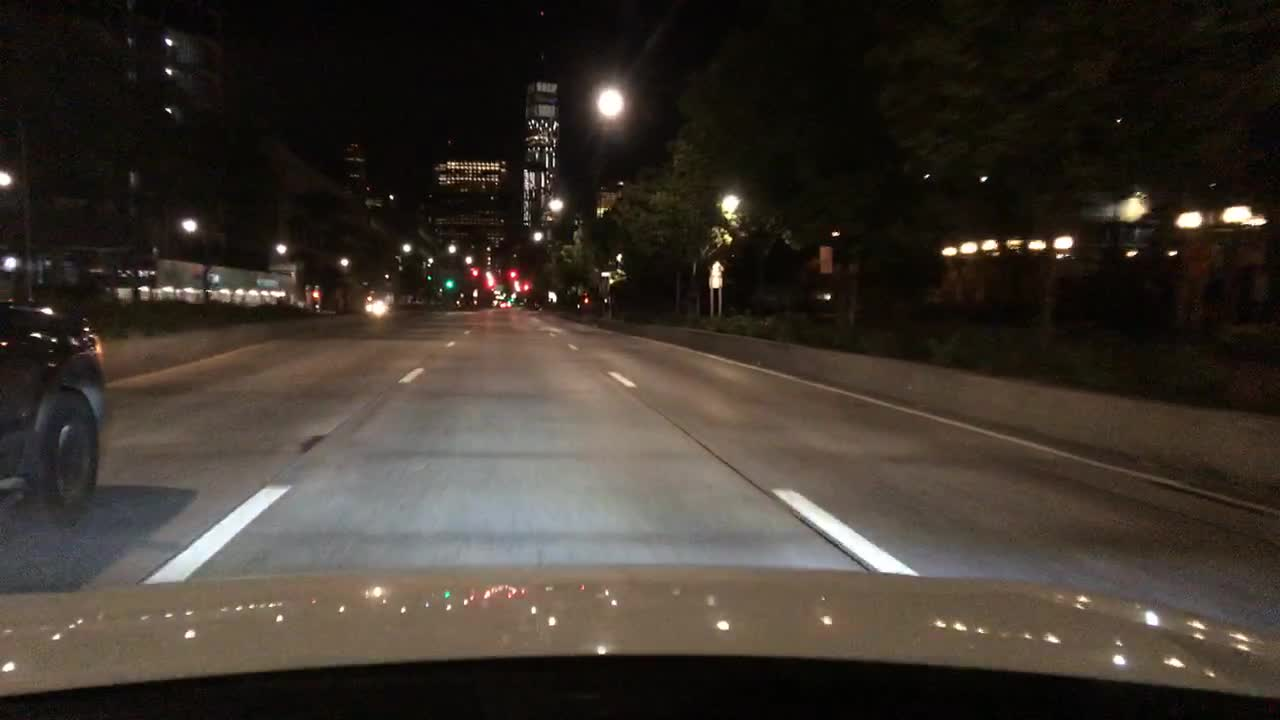car: (0, 300, 107, 531), (366, 295, 386, 316)
traffic light: (446, 277, 454, 290), (509, 267, 516, 277), (471, 267, 477, 277)
